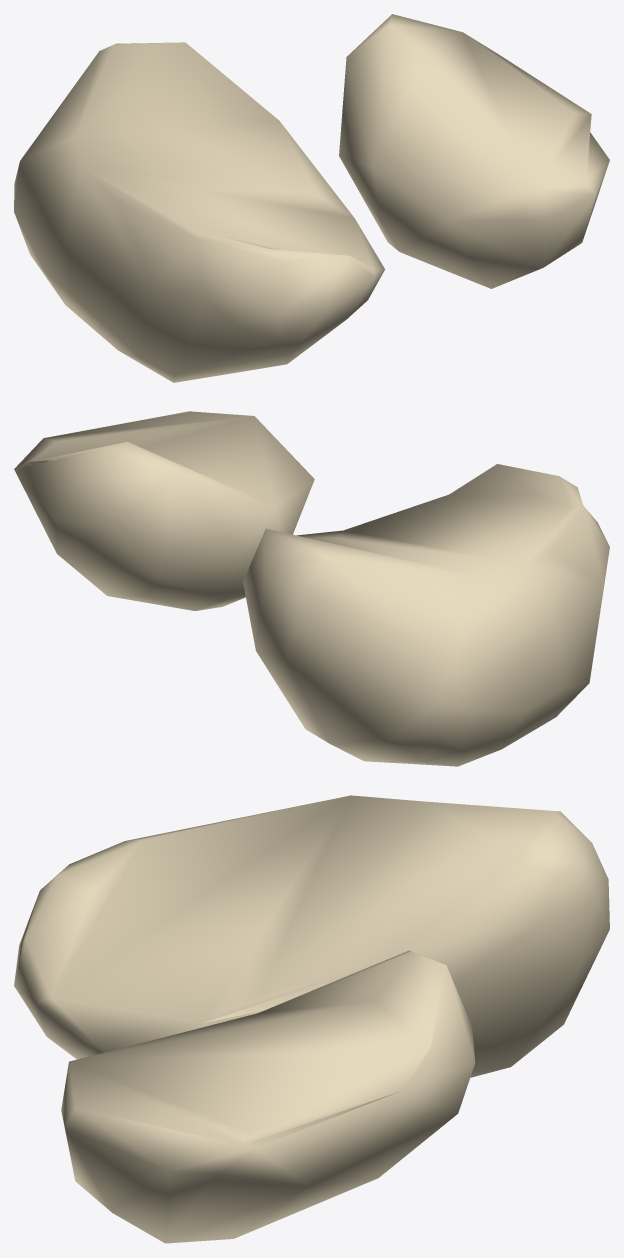
File: esqueleto-sesamoid-bones-of-foot-r.glb
3 views of the same model, one above another, from view 1: azimuth 30°, elevation 25°; view 2: azimuth 150°, elevation 25°; view 3: azimuth 270°, elevation 25° (orthographic). The views are drawn at different scales.
Parts seen in each view (by area): view 1: Sesamoid bones of foot.r; view 2: Sesamoid bones of foot.r; view 3: Sesamoid bones of foot.r.
Boxes of the visible parts, box(x1,y1,x2,y2) form: Sesamoid bones of foot.r: box(14, 14, 609, 382); Sesamoid bones of foot.r: box(14, 411, 609, 766); Sesamoid bones of foot.r: box(14, 795, 609, 1243).
Bounding box in the file's own units: 0.0174 × 0.00802 × 0.0136.
